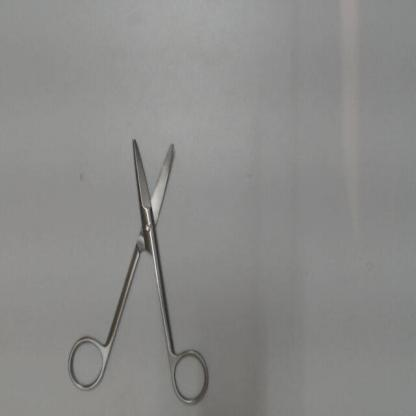Curved Mayo Scissors: (62, 126, 214, 410)
